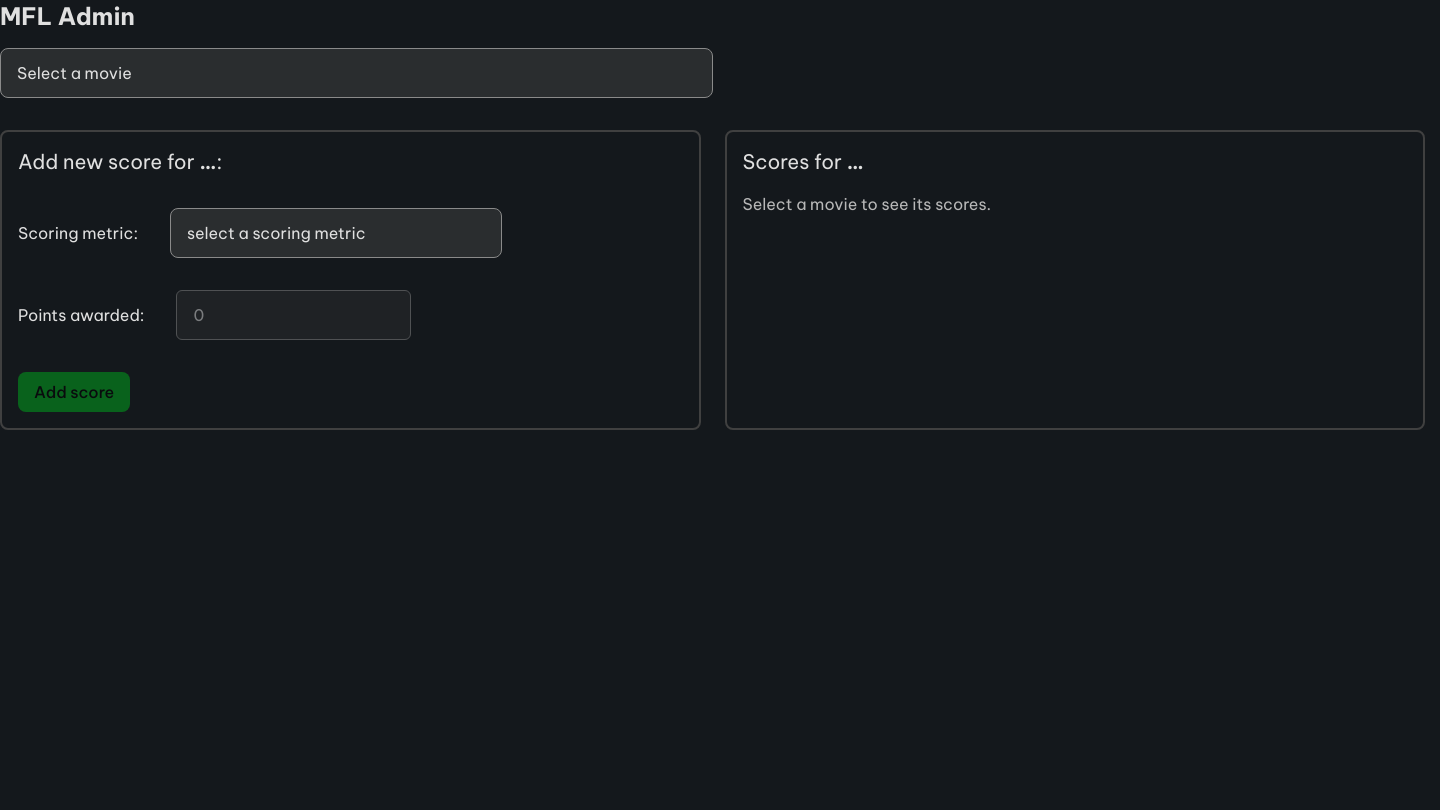
Test: MFL admin surfaces write failures › shows the server's message for a 400
Select "Anora" in the dropdown named "select a movie" at (356, 73), box [0,48,712,98]
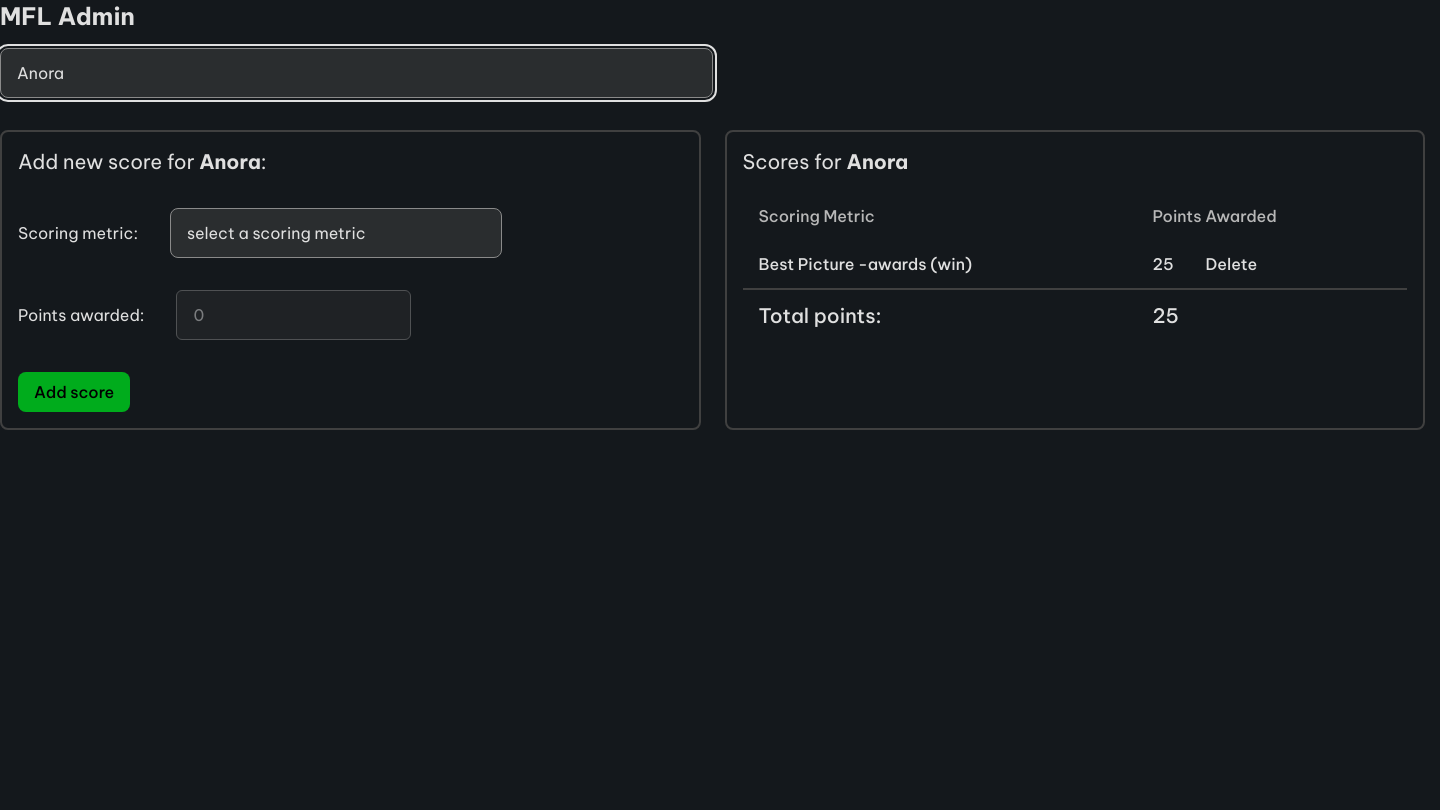
expect the button "Delete" is shown: met
Click the button "Delete" at (1231, 264), box [1174,252,1289,276]
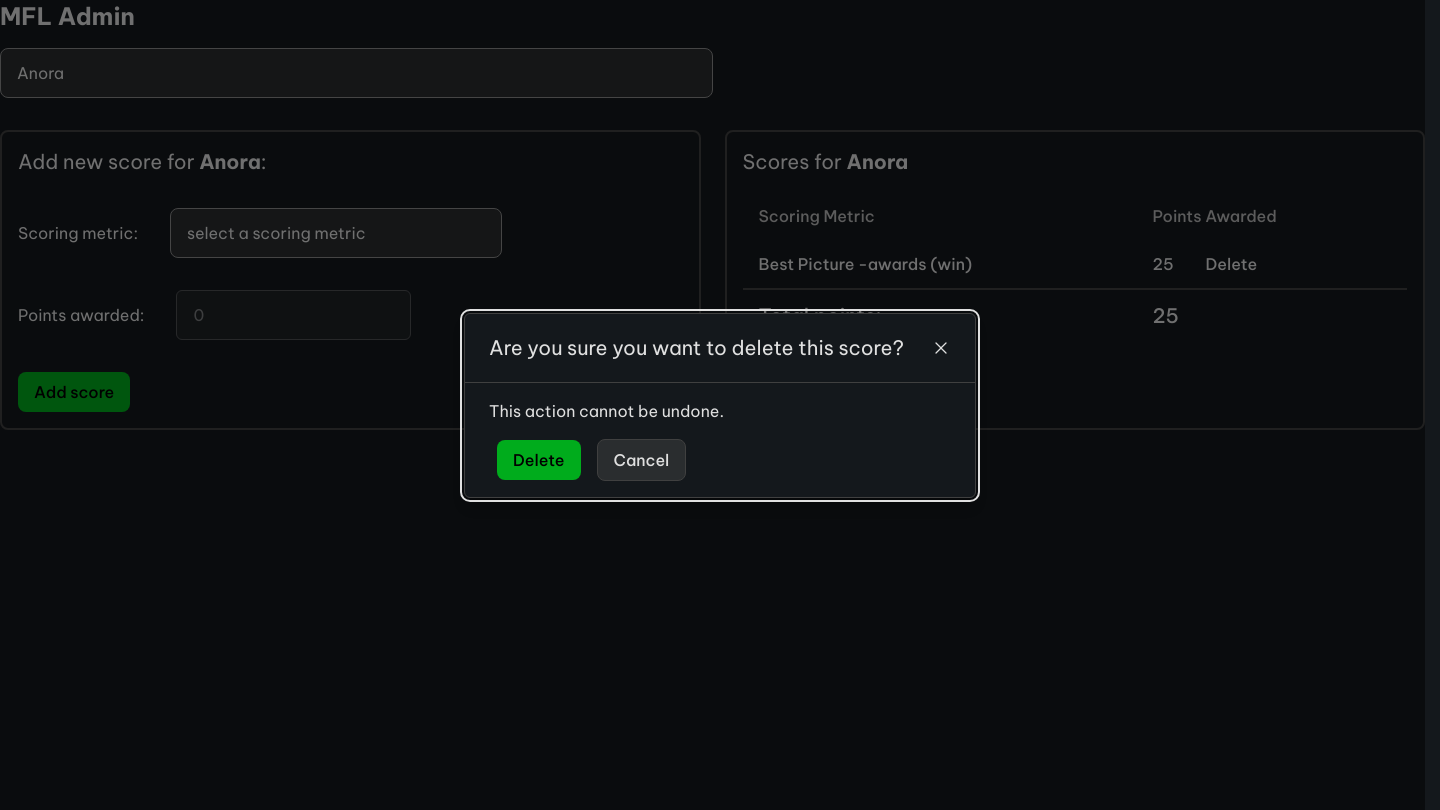
Click the button "Delete" at (539, 460), box [497,440,580,480]
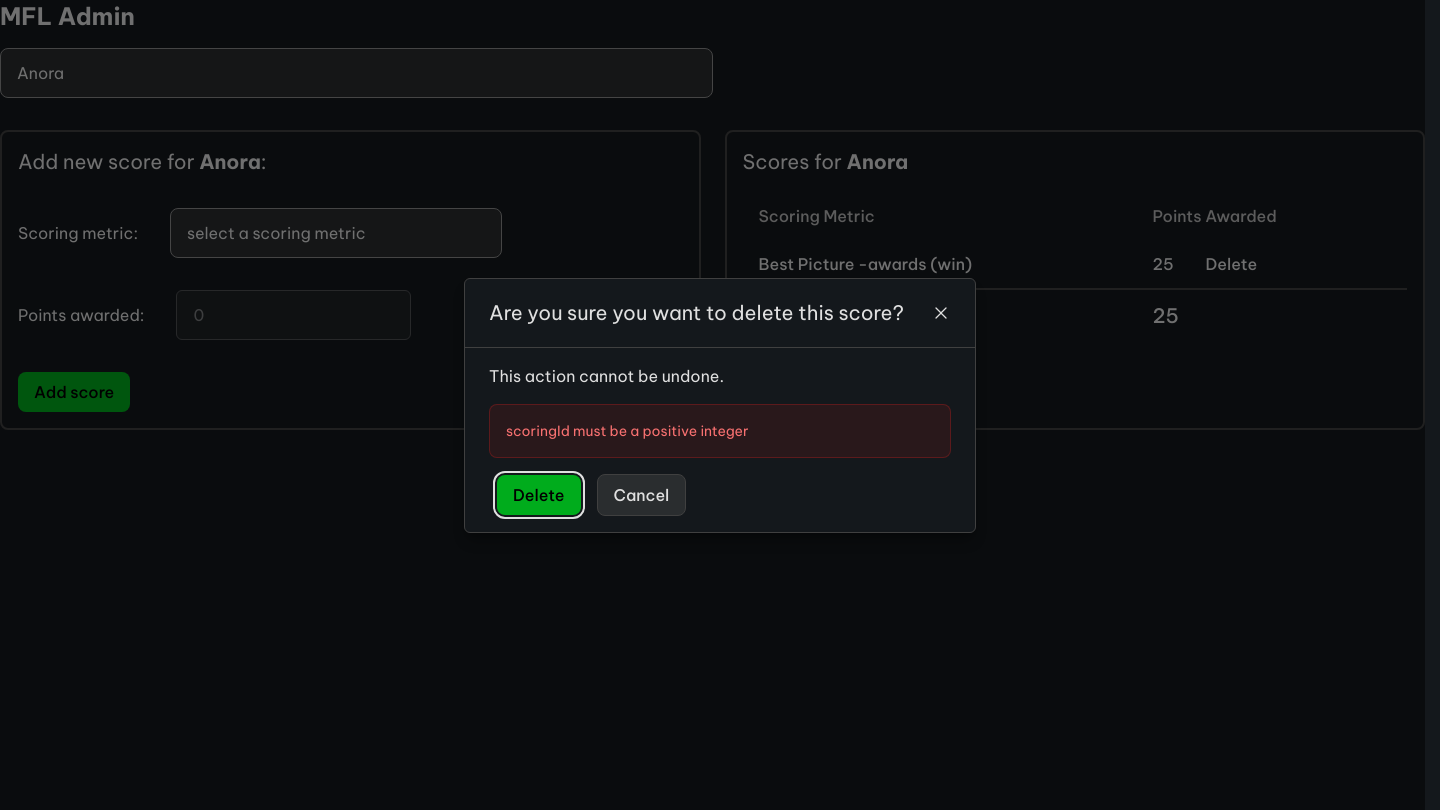
expect the text "scoringId must be a positive integer" is shown: met, box [489,404,951,458]
